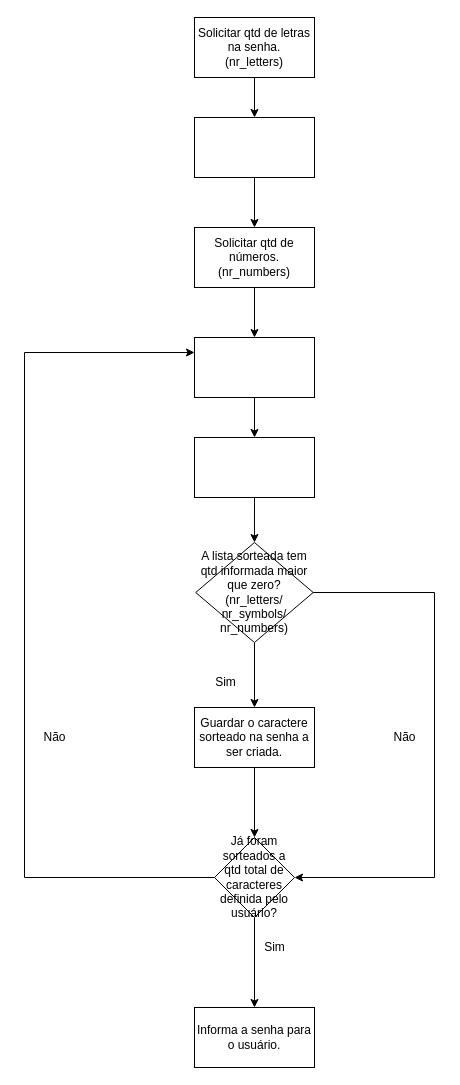
Some shapes in this 460 by 1085 pixel diagram are drawn without their labels. Each missing label, with the box of its shape:
Solicitar qtd de símbolos. (nr_symbols): (194, 116, 314, 178)
Sortear um dos componentes das listas letters, numbers e symbols.: (194, 436, 314, 498)
Sortear uma das listas letters, numbers e symbols.: (194, 336, 314, 398)
